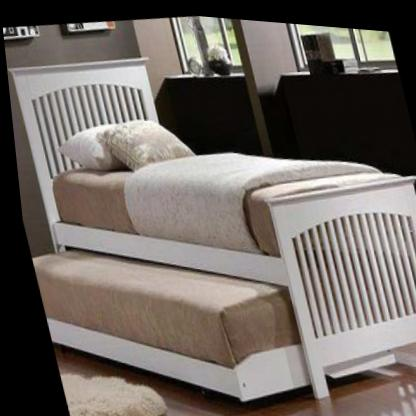Bed: (10, 57, 416, 365)
